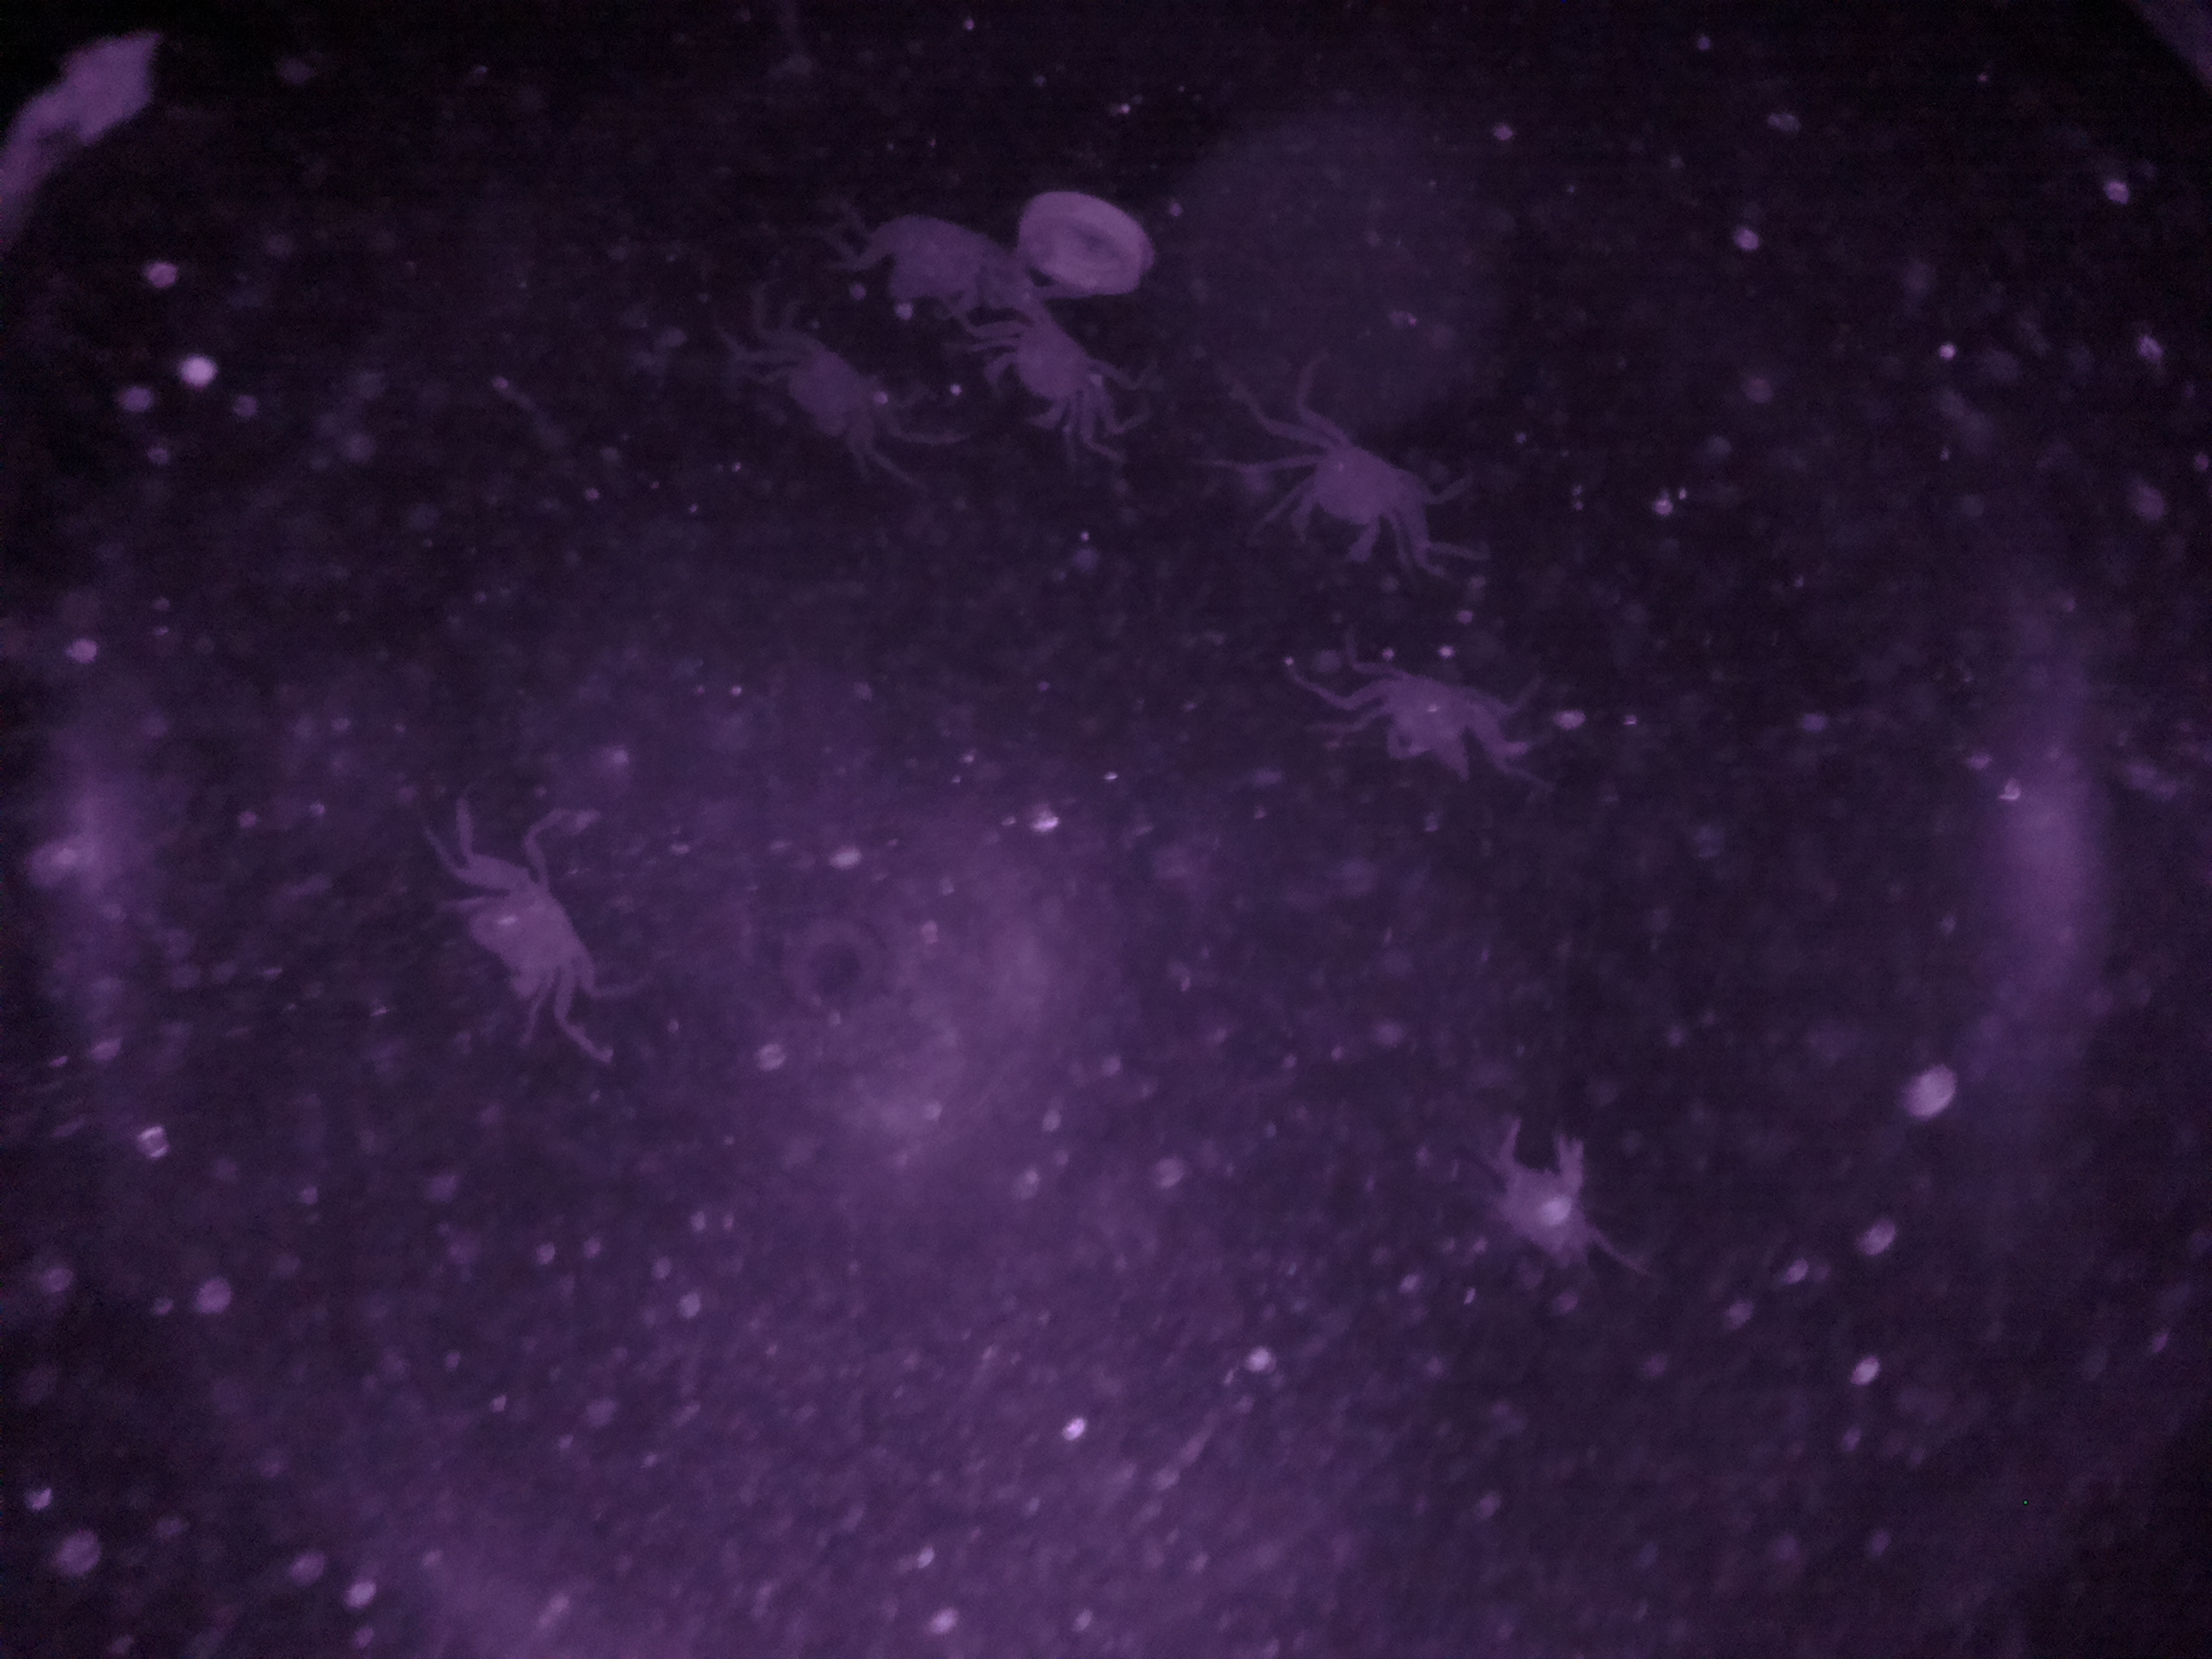Crab: (437, 829, 631, 1051), (1251, 401, 1470, 580), (968, 275, 1150, 455), (1318, 662, 1517, 775)
